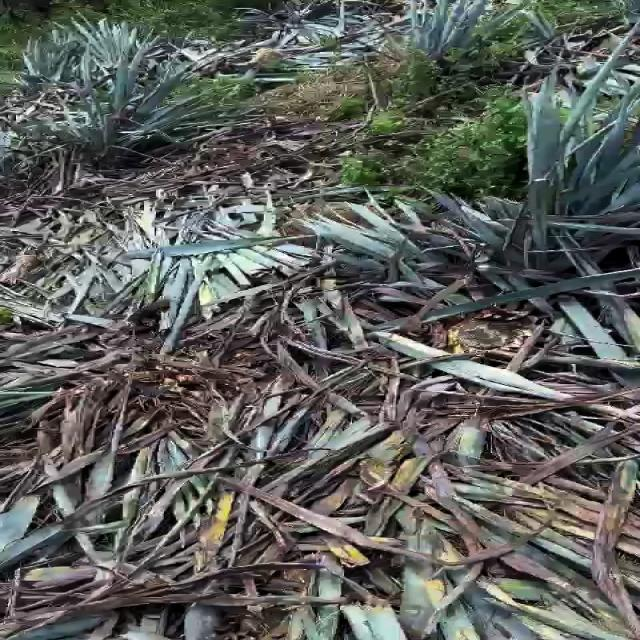agave: (495, 33, 640, 304)
